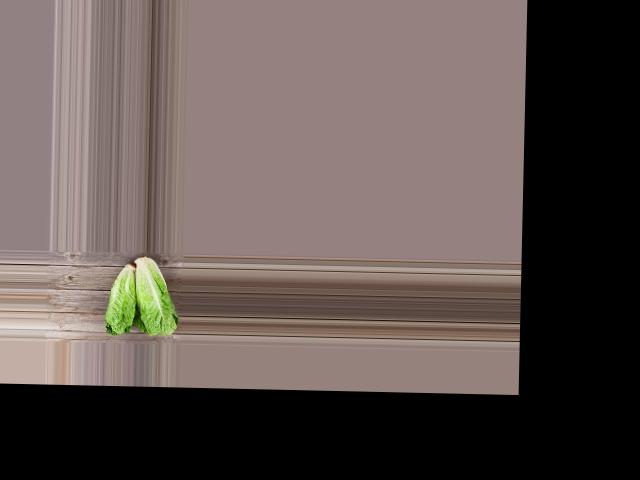lettuce: (132, 252, 181, 338)
